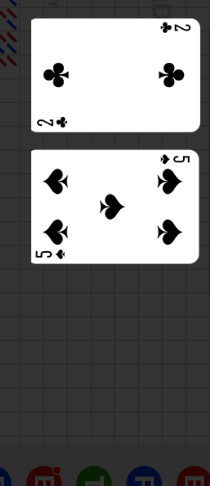2C: (36, 115, 70, 129)
5S: (34, 248, 67, 260)
